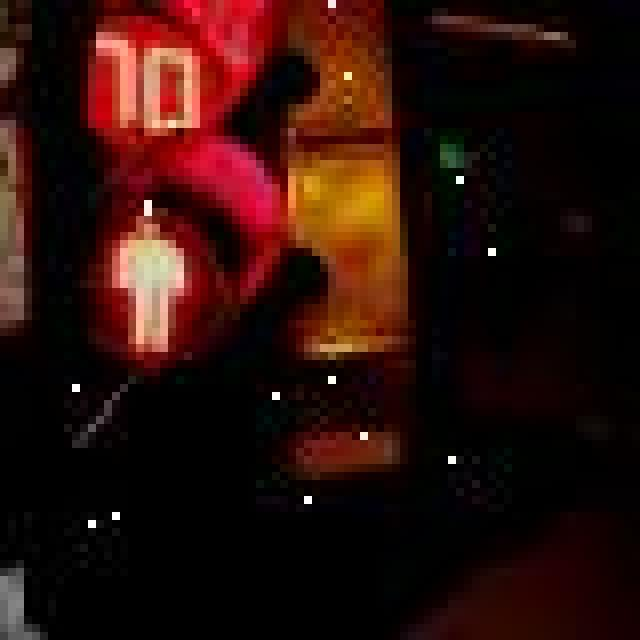redlight: (22, 172, 294, 626)
